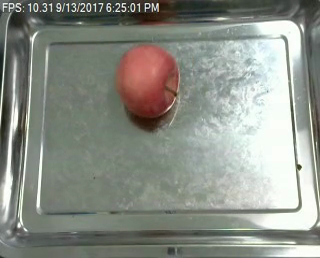Apple: (112, 40, 180, 124)
